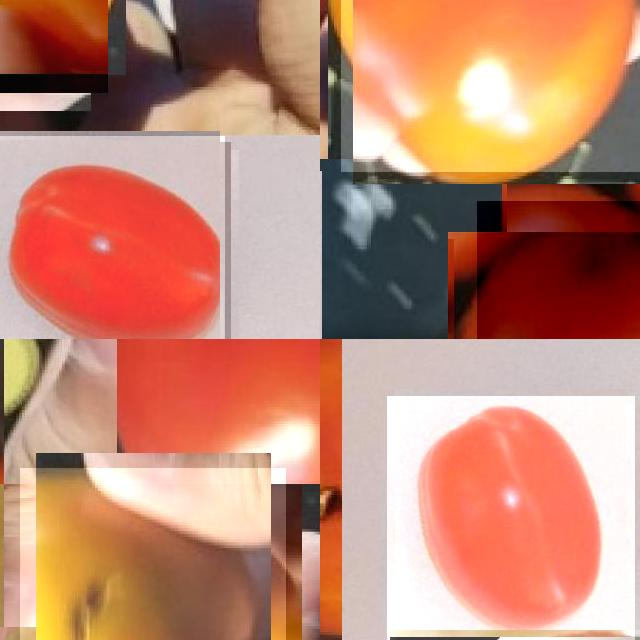0: (387, 396, 635, 640), (0, 136, 225, 339)
Fresh Tomato: (340, 0, 640, 171), (117, 339, 320, 484), (477, 201, 640, 339)
Rotten Tomato: (19, 468, 286, 640)
